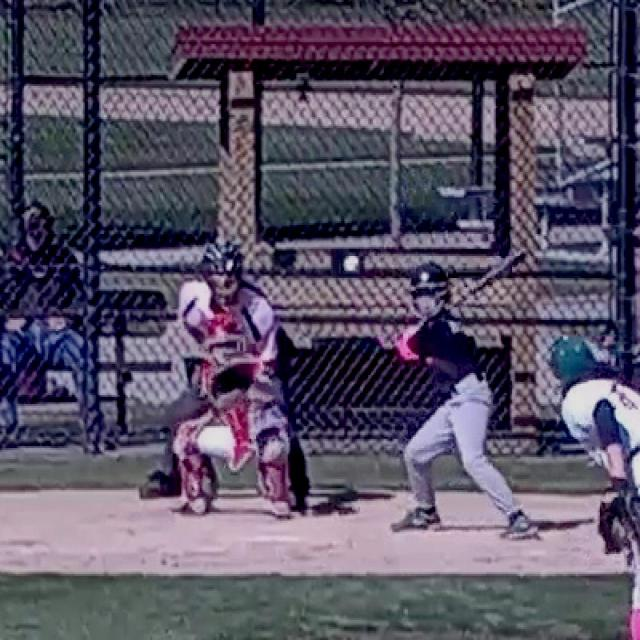baseball: (344, 256, 358, 272)
